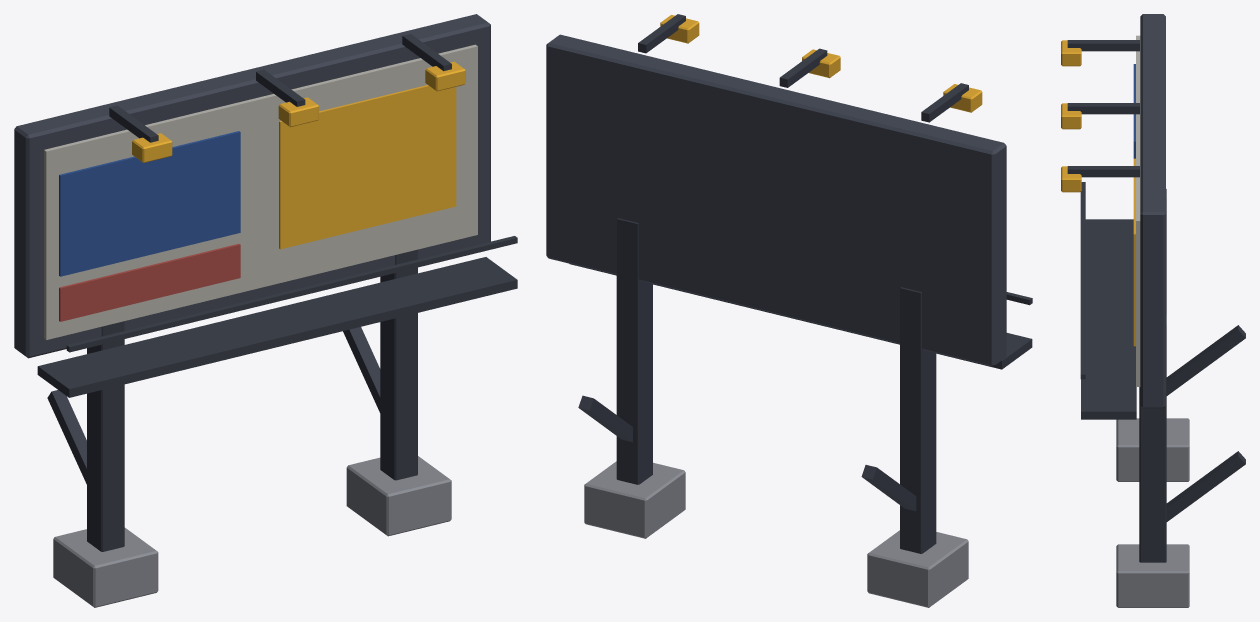
File: Stylized_Landmark_BillboardSign.fbx
3 renders of one model, left to right at view 1: azimuth 30°, elevation 25°; view 2: azimuth 150°, elevation 25°; view 3: azimuth 270°, elevation 25°, orthographic. The views are drawn at different scales.
Parts seen in each view (by area): view 1: Stylized_Landmark_BillboardSign; view 2: Stylized_Landmark_BillboardSign; view 3: Stylized_Landmark_BillboardSign.
Boxes of the visible parts, box(x1,y1,x2,y2) form: Stylized_Landmark_BillboardSign: box(14, 14, 517, 607); Stylized_Landmark_BillboardSign: box(546, 14, 1032, 607); Stylized_Landmark_BillboardSign: box(1061, 14, 1245, 607).
Size of the model in its own units: 5.55 by 5.53 by 2.17.
